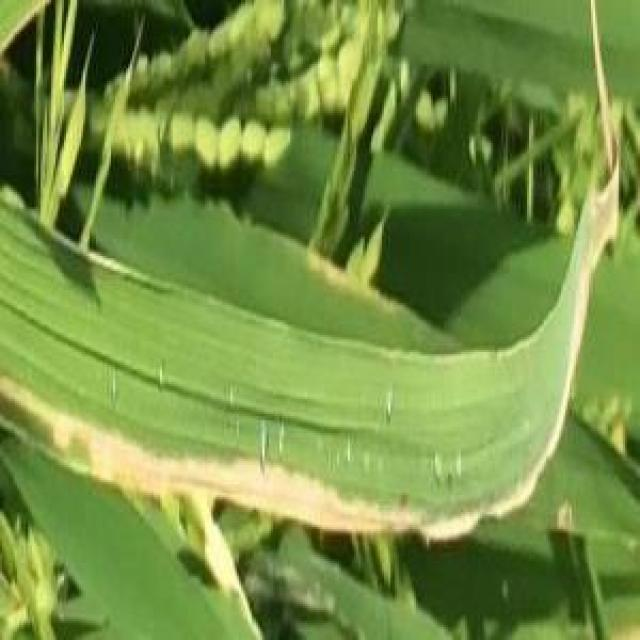Bacterial_Blight: (3, 171, 620, 542)
